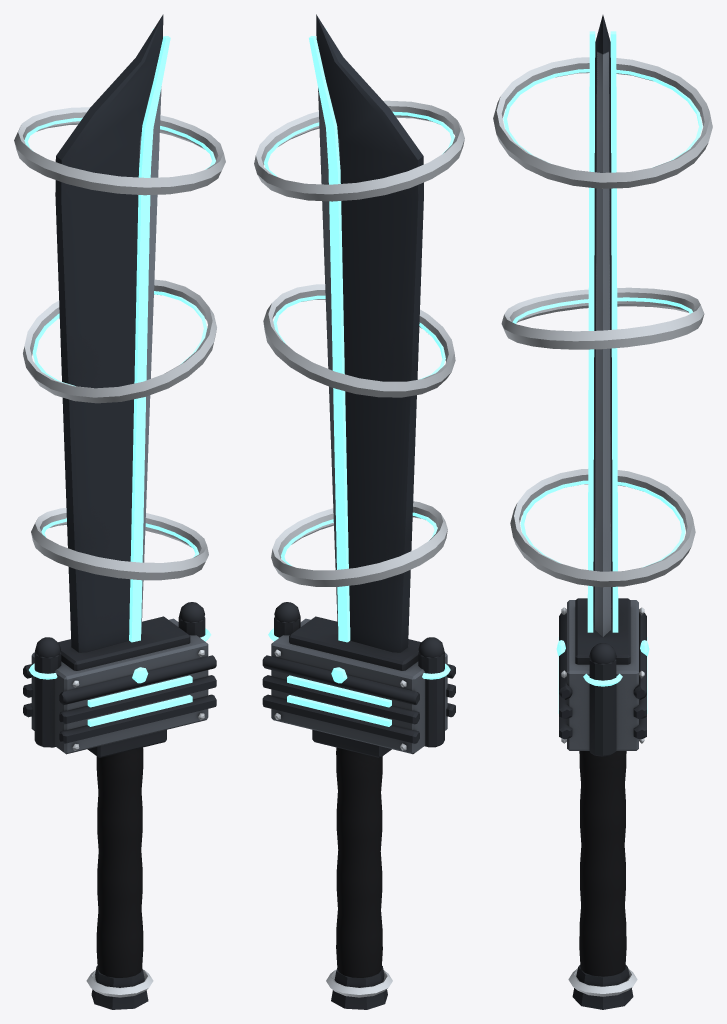
Rendered from sable_gravitacional.fbx.
The picture shows the model from 3 angles, left to right: view 1: azimuth 30°, elevation 25°; view 2: azimuth 150°, elevation 25°; view 3: azimuth 270°, elevation 25°; orthographic projection. The views are drawn at different scales.
Visible parts, largest first — view 1: SableGravitacional_Hoja, SableGravitacional_Guarda, SableGravitacional_Empunadura, SableGravitacional_Neon_02, SableGravitacional_Anillo_03, SableGravitacional_Anillo_02, SableGravitacional_Anillo_01, SableGravitacional_Neon_01, SableGravitacional_Neon_03; view 2: SableGravitacional_Hoja, SableGravitacional_Guarda, SableGravitacional_Empunadura, SableGravitacional_Neon_02, SableGravitacional_Anillo_03, SableGravitacional_Anillo_02, SableGravitacional_Anillo_01, SableGravitacional_Neon_01, SableGravitacional_Neon_03; view 3: SableGravitacional_Empunadura, SableGravitacional_Guarda, SableGravitacional_Hoja, SableGravitacional_Neon_02, SableGravitacional_Anillo_03, SableGravitacional_Anillo_02, SableGravitacional_Anillo_01, SableGravitacional_Neon_03, SableGravitacional_Neon_01.
Part boxes in pixels (x1=…): SableGravitacional_Hoja: x1=55, y1=14, x2=163, y2=652; SableGravitacional_Guarda: x1=23, y1=602, x2=216, y2=757; SableGravitacional_Empunadura: x1=86, y1=747, x2=153, y2=1009; SableGravitacional_Neon_02: x1=129, y1=28, x2=170, y2=642; SableGravitacional_Anillo_03: x1=14, y1=107, x2=225, y2=195; SableGravitacional_Anillo_02: x1=23, y1=279, x2=216, y2=403; SableGravitacional_Anillo_01: x1=31, y1=508, x2=208, y2=580; SableGravitacional_Neon_01: x1=29, y1=628, x2=211, y2=726; SableGravitacional_Neon_03: x1=24, y1=117, x2=215, y2=557; SableGravitacional_Hoja: x1=316, y1=14, x2=423, y2=652; SableGravitacional_Guarda: x1=262, y1=602, x2=455, y2=757; SableGravitacional_Empunadura: x1=326, y1=747, x2=392, y2=1009; SableGravitacional_Neon_02: x1=309, y1=29, x2=350, y2=642; SableGravitacional_Anillo_03: x1=254, y1=100, x2=464, y2=201; SableGravitacional_Anillo_02: x1=263, y1=284, x2=455, y2=397; SableGravitacional_Anillo_01: x1=271, y1=501, x2=447, y2=586; SableGravitacional_Neon_01: x1=268, y1=628, x2=450, y2=726; SableGravitacional_Neon_03: x1=264, y1=111, x2=454, y2=565; SableGravitacional_Empunadura: x1=568, y1=751, x2=637, y2=1009; SableGravitacional_Guarda: x1=559, y1=598, x2=646, y2=756; SableGravitacional_Hoja: x1=593, y1=15, x2=612, y2=636; SableGravitacional_Neon_02: x1=587, y1=31, x2=618, y2=632; SableGravitacional_Anillo_03: x1=493, y1=57, x2=712, y2=188; SableGravitacional_Anillo_02: x1=501, y1=287, x2=704, y2=349; SableGravitacional_Anillo_01: x1=510, y1=469, x2=695, y2=587; SableGravitacional_Neon_03: x1=503, y1=69, x2=702, y2=567; SableGravitacional_Neon_01: x1=556, y1=637, x2=649, y2=713.
Size of the model in its own units: 0.22 by 1.12 by 0.222.
4 materials, 1 textured.
